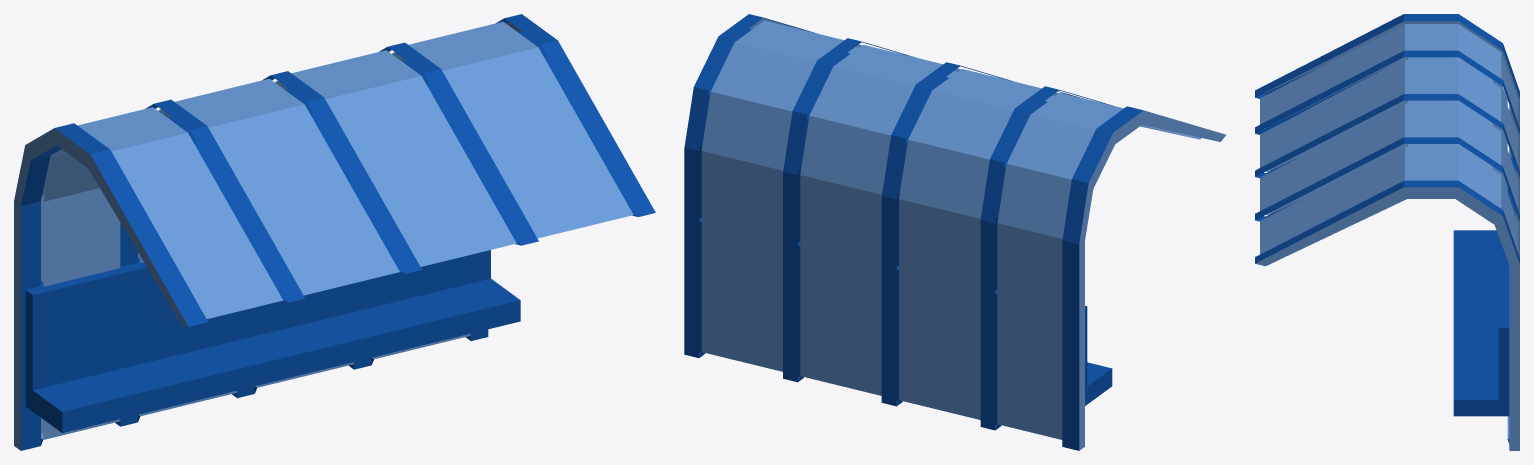
File: stop-lo.glb
The picture shows the model from 3 angles, left to right: view 1: azimuth 30°, elevation 25°; view 2: azimuth 150°, elevation 25°; view 3: azimuth 270°, elevation 25°; orthographic projection. The views are drawn at different scales.
Parts seen in each view (by area): view 1: BusStop_Cylinder.023; view 2: BusStop_Cylinder.023; view 3: BusStop_Cylinder.023.
Boxes of the visible parts, x1,y1,x2,y2 form: BusStop_Cylinder.023: (14,14,655,450); BusStop_Cylinder.023: (684,14,1226,450); BusStop_Cylinder.023: (1255,14,1519,450).
Size of the model in its own units: 4.23 by 3 by 2.73.
